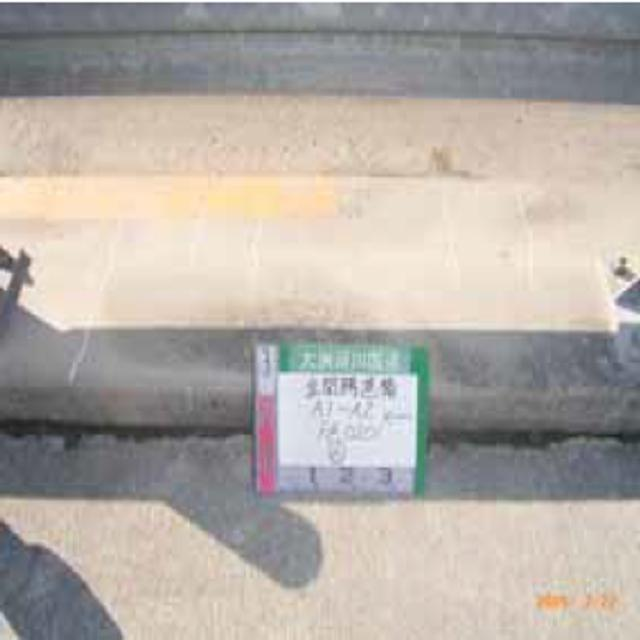crack: (4, 404, 244, 453), (437, 417, 640, 472)
